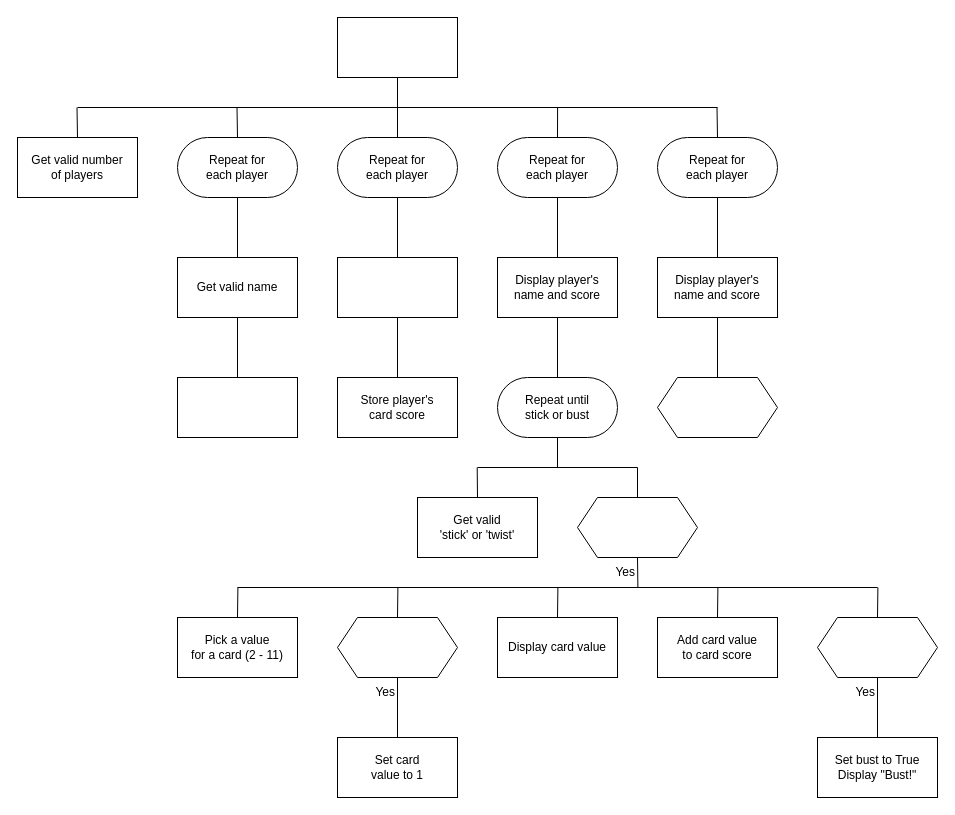
Image size: 955x815. Some labels were removed from this diagram. The shapes that lost their labels are listed below. From the top down, each one's centre as x and y in pixels, then its label:
At pixel 397 47: "Pontoon".
At pixel 397 287: "Pick a value for two cards (4-21)".
At pixel 237 407: "Store player's name".
At pixel 717 407: "Is score > 21?".
At pixel 637 527: "twist?".
At pixel 397 647: "Card = 11 and score > 10?".
At pixel 877 647: "Is card score > 21?".
